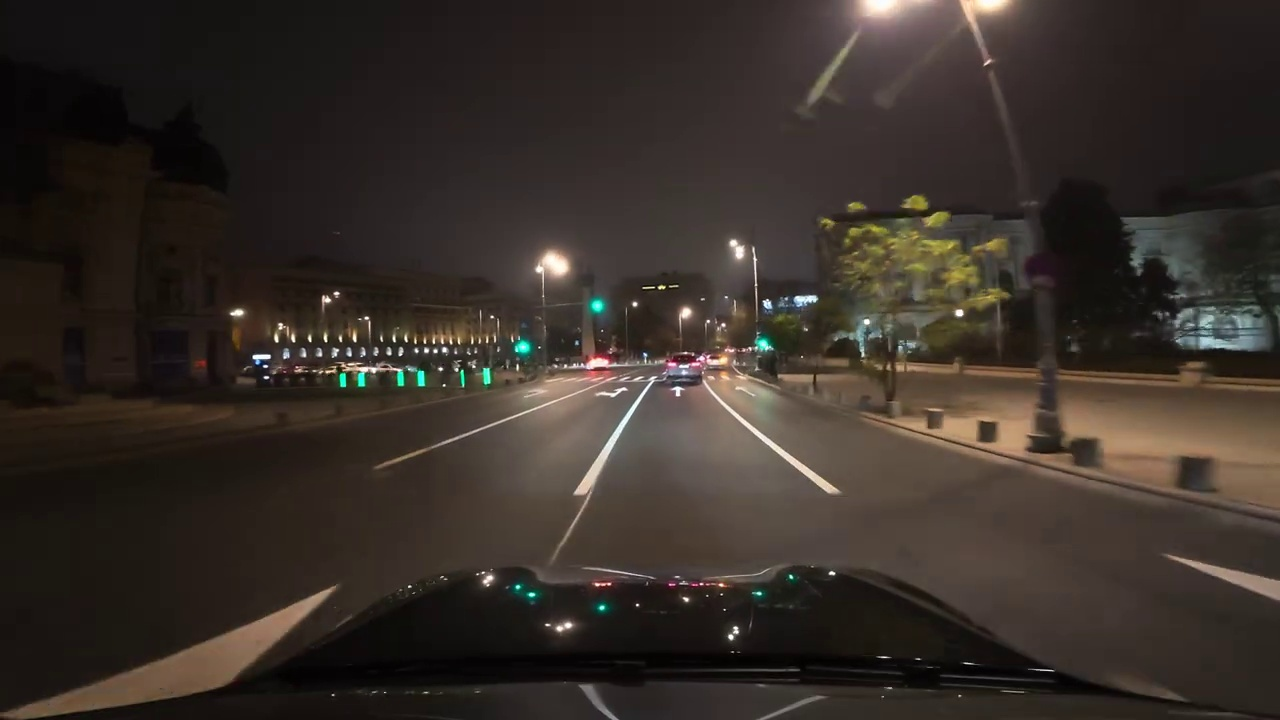acesa: (540, 250, 572, 279), (726, 238, 751, 266)
